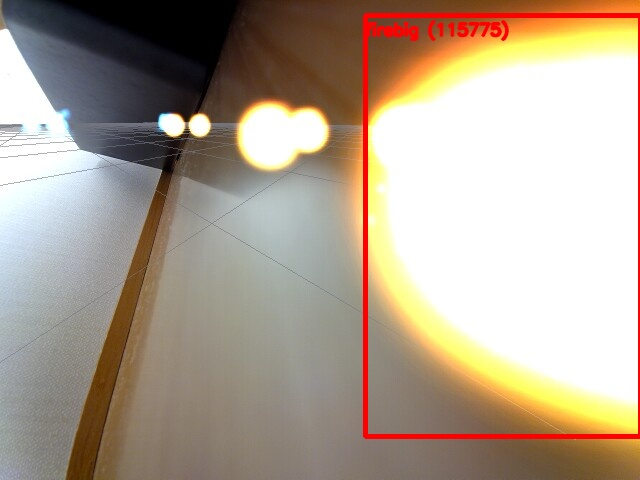firebig: (365, 15, 640, 436)
